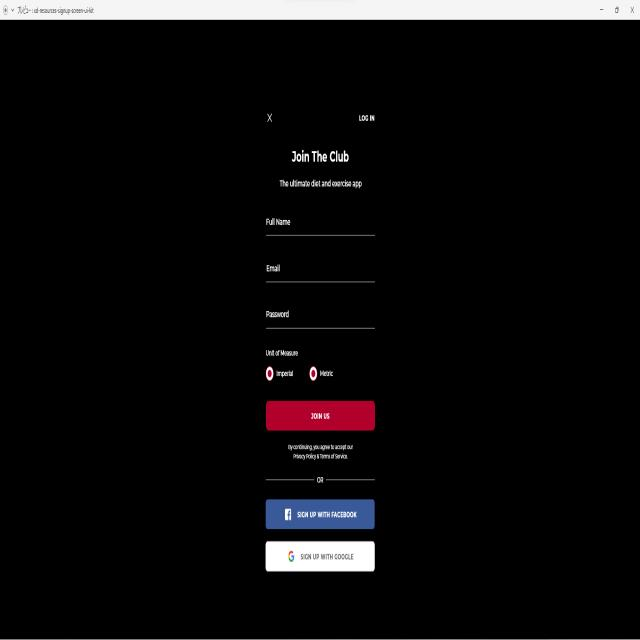radio: (264, 366, 274, 382), (309, 365, 318, 380)
